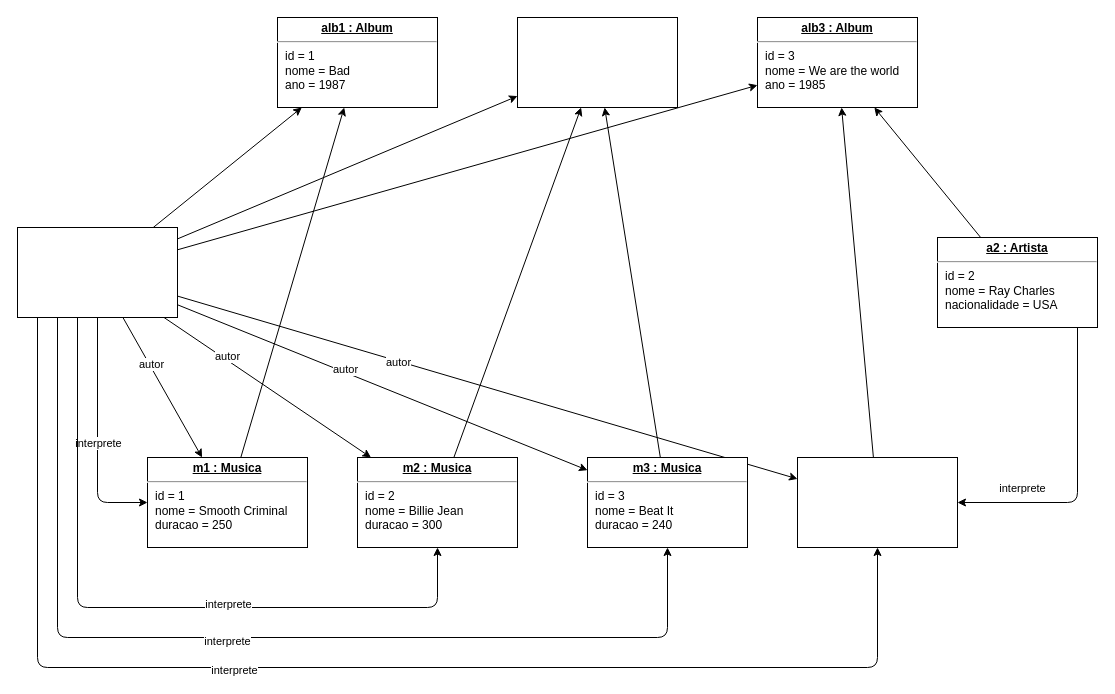
This 1115x694 diagram has some shape labels left out. The shapes that lost their labels are listed below. From the top down, each one's centre as x and y in pixels, then its label:
At point (597, 62): "alb2 : Album id = 2 nome = Thriller ano = 1982".
At point (97, 272): "a1 : Artista id = 1 nome = Michal Jackson nacionalidade = USA".
At point (877, 502): "m4 : Musica id = 4 nome = We are the world duracao = 240".
